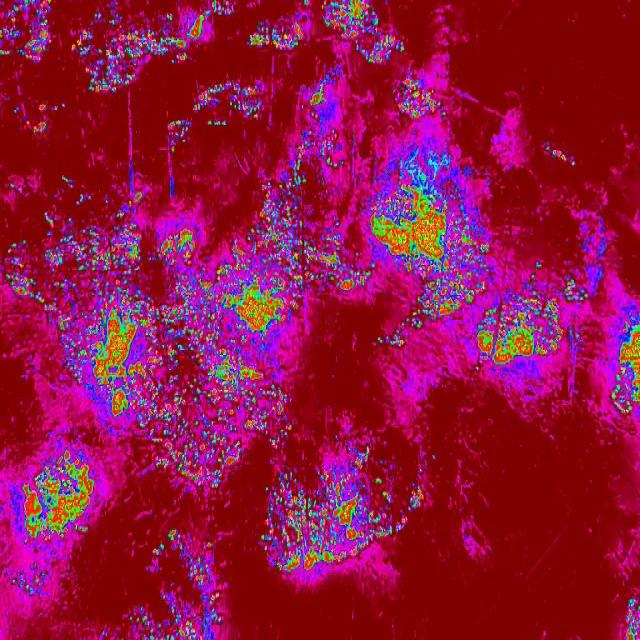fire: (45, 198, 308, 484), (367, 147, 496, 333), (250, 458, 430, 578), (0, 0, 198, 98), (476, 289, 588, 373), (148, 534, 225, 640), (18, 447, 98, 543), (322, 0, 395, 66), (189, 72, 270, 129), (306, 232, 368, 298), (611, 319, 640, 415)
